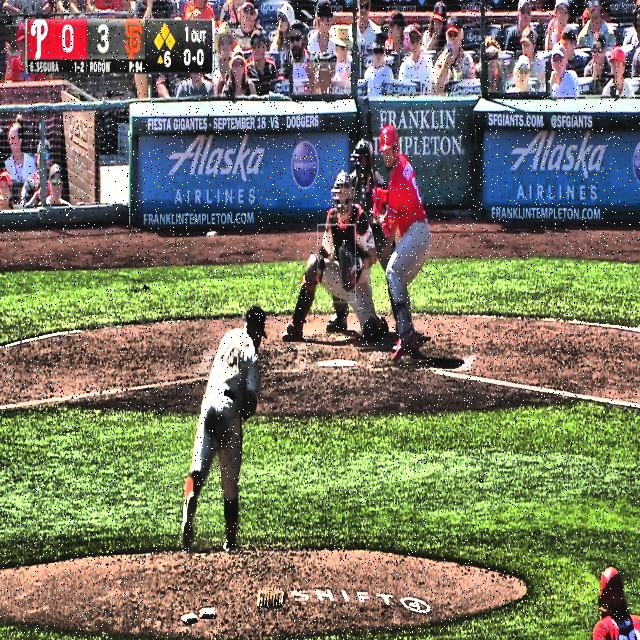baseball: (206, 229, 218, 245)
